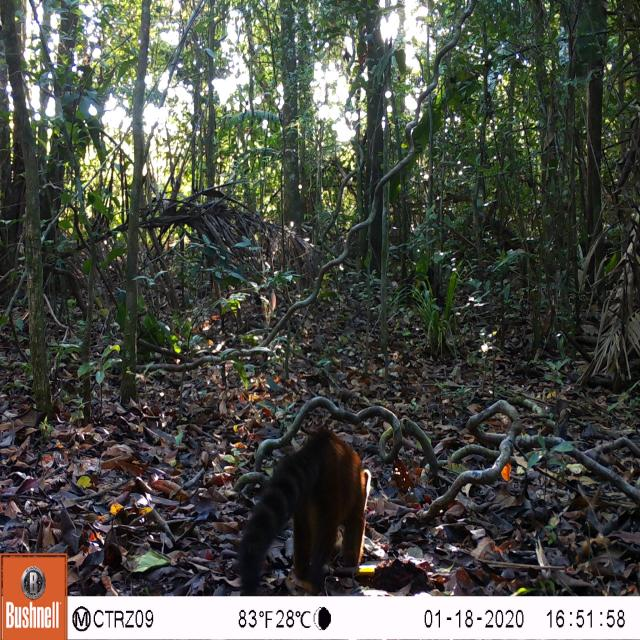South American Coati: (236, 417, 376, 597)
